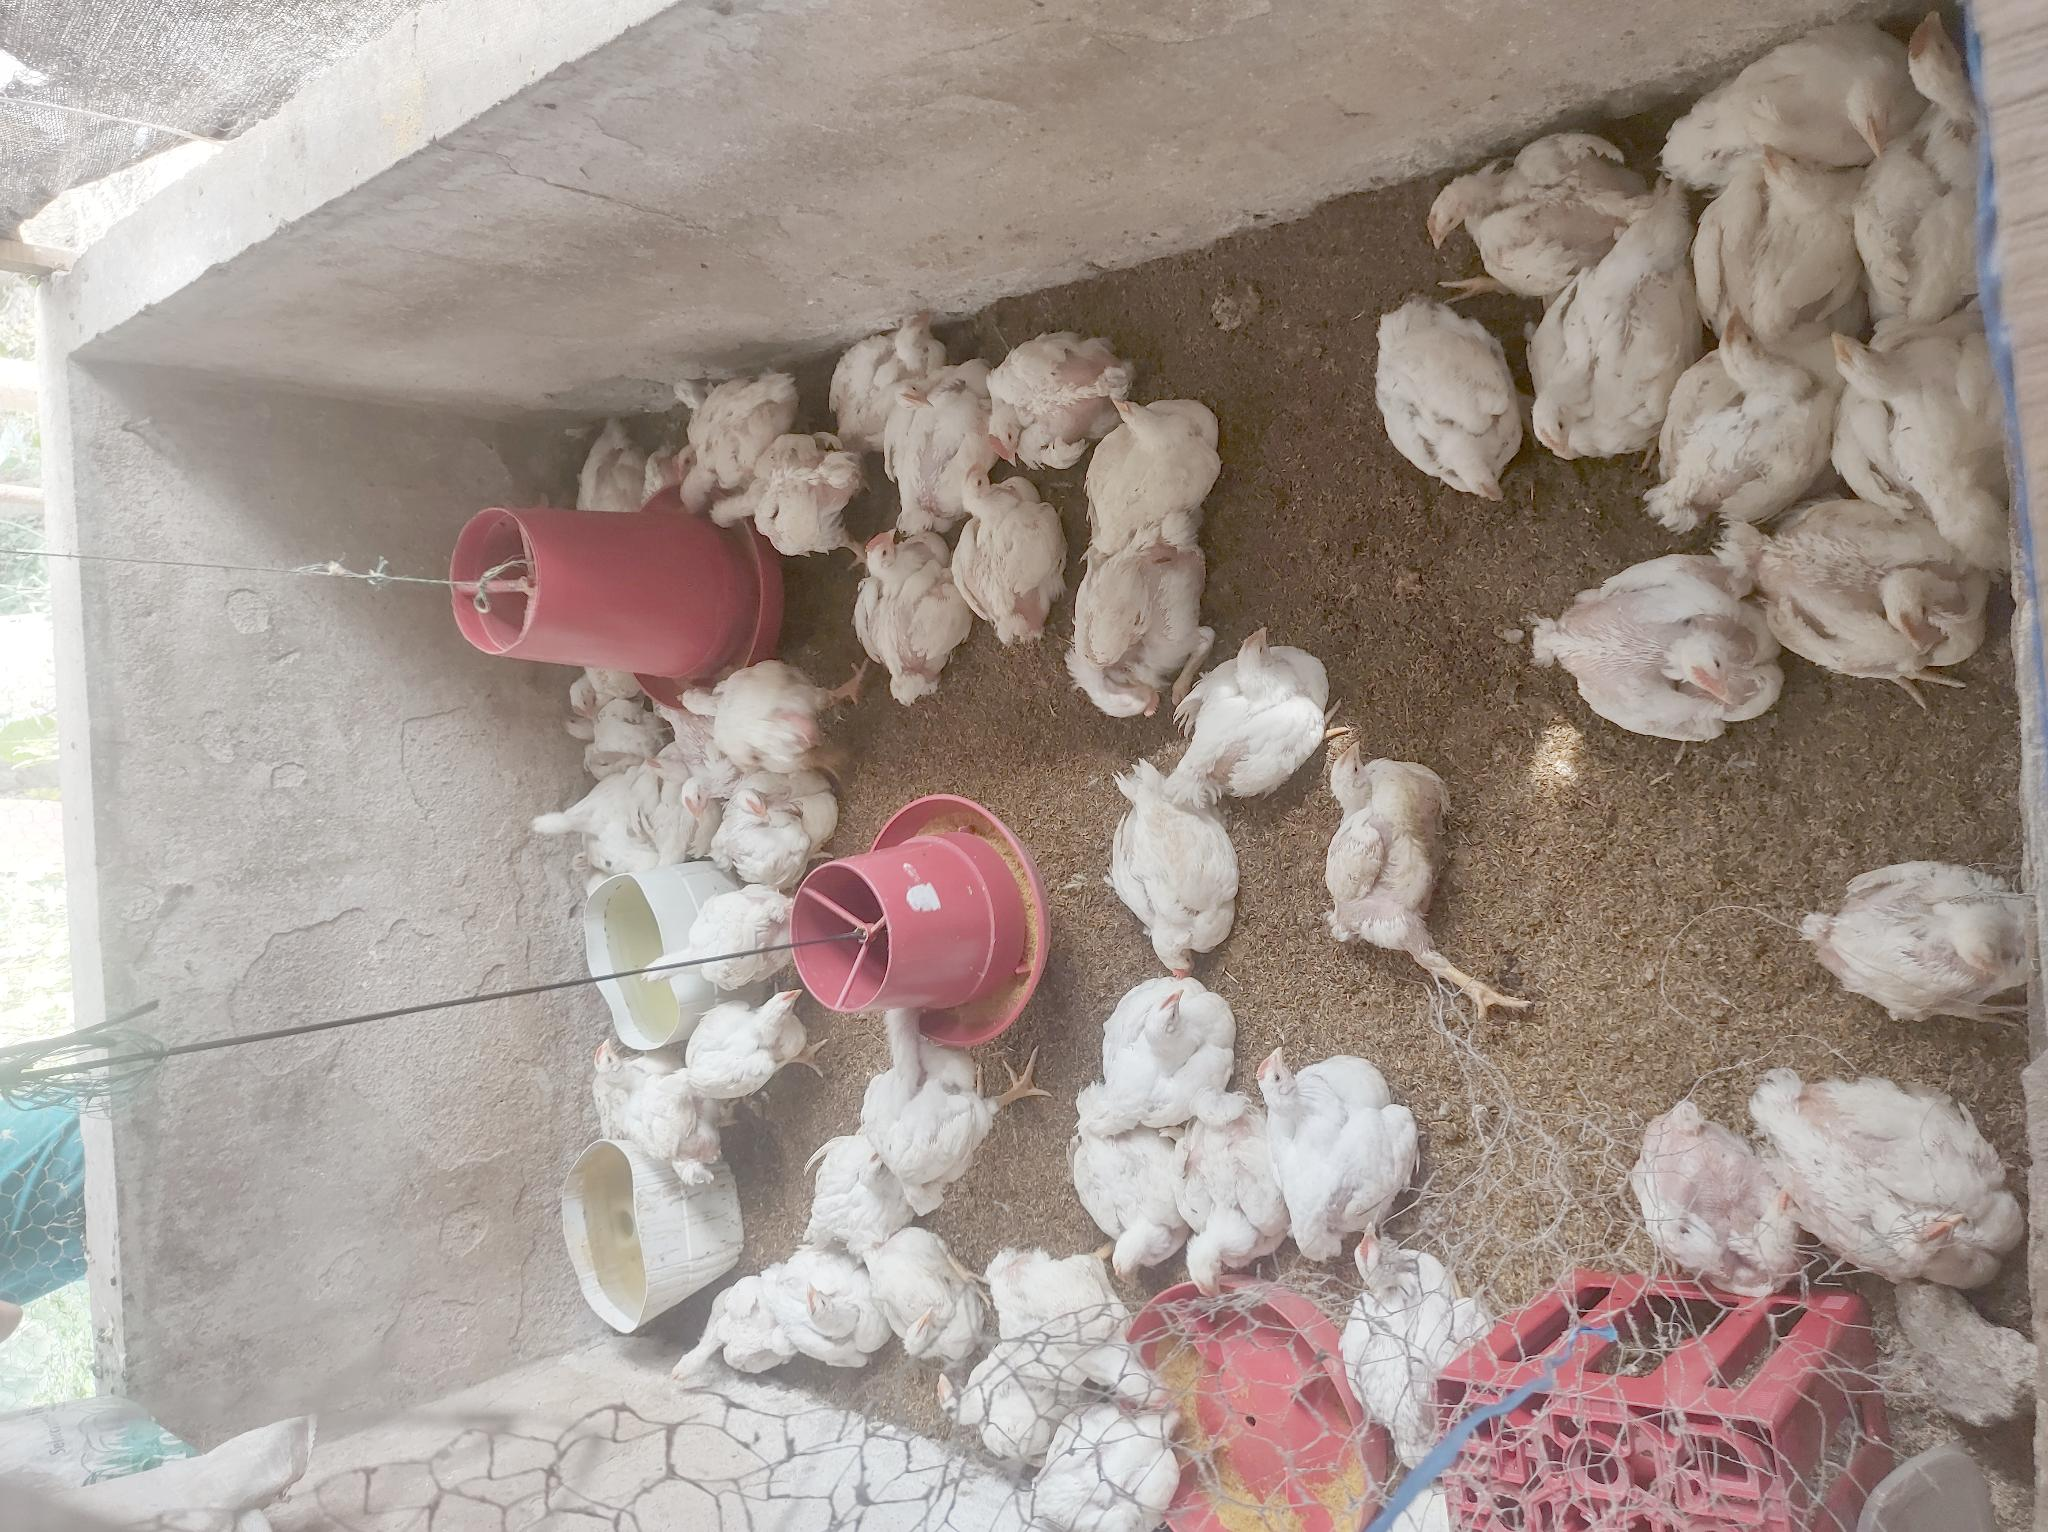Pollos: (1760, 1056, 2045, 1270), (1511, 541, 1778, 760), (1763, 488, 2005, 716), (1297, 732, 1501, 991), (1316, 1223, 1525, 1455), (1649, 3, 1918, 180), (1511, 208, 1692, 467), (1792, 846, 2042, 1032), (1874, 3, 2017, 315), (1615, 1085, 1803, 1310), (1649, 296, 1828, 526), (1824, 299, 2001, 521), (1252, 1038, 1424, 1260), (1680, 142, 1871, 323), (1363, 278, 1507, 517), (1396, 129, 1612, 278), (1088, 766, 1236, 982), (1071, 513, 1216, 719), (870, 999, 1015, 1205), (993, 1254, 1182, 1410), (1152, 1089, 1293, 1287), (1060, 1081, 1195, 1278), (1182, 618, 1326, 793), (1025, 1397, 1213, 1529), (997, 299, 1142, 467), (933, 467, 1068, 645), (1078, 954, 1232, 1109), (1081, 380, 1232, 526), (610, 879, 806, 988), (698, 433, 866, 558), (843, 531, 967, 698), (874, 359, 989, 537), (785, 1118, 943, 1238), (681, 980, 843, 1094), (859, 1226, 988, 1366), (681, 333, 792, 491), (753, 1234, 890, 1357), (668, 661, 862, 747), (618, 1069, 750, 1189), (843, 282, 943, 439), (928, 1337, 1039, 1471), (666, 1273, 780, 1390), (732, 776, 853, 874), (516, 772, 669, 846), (574, 393, 652, 513), (555, 686, 631, 756), (676, 748, 732, 834), (565, 644, 645, 702), (573, 1020, 655, 1075)
